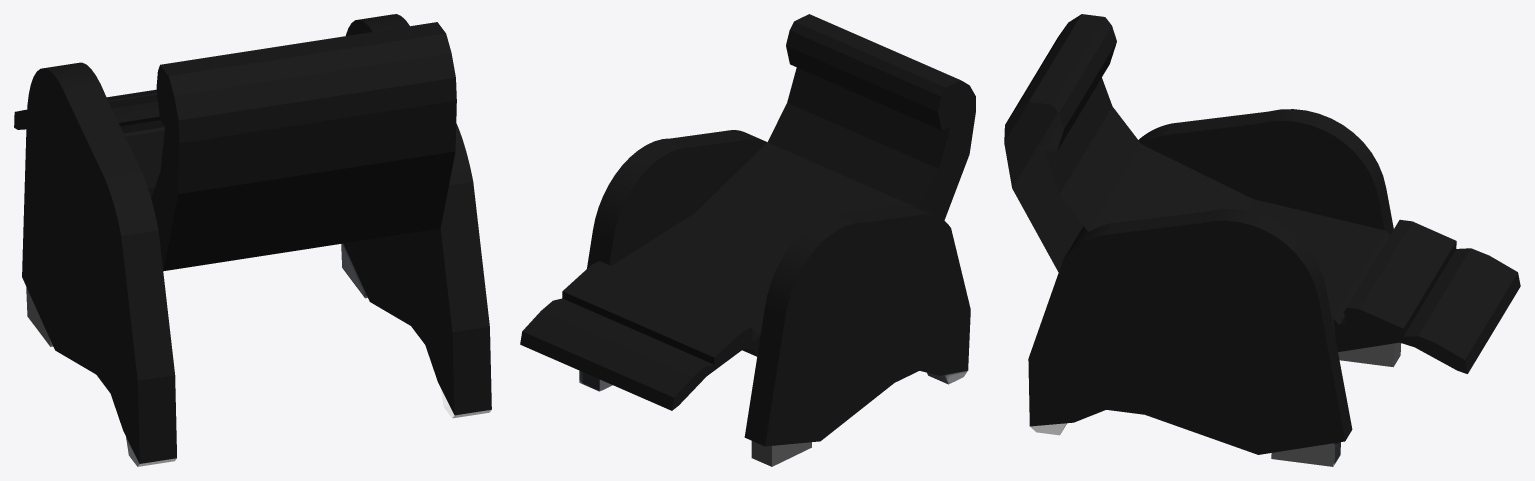
File: singlesofa.obj
3 renders of one model, left to right at view 1: azimuth 30°, elevation 25°; view 2: azimuth 150°, elevation 25°; view 3: azimuth 270°, elevation 25°, orthographic. The views are drawn at different scales.
Parts seen in each view (by area): view 1: Mesh1 Group1 ske1D1 Model; view 2: Mesh1 Group1 ske1D1 Model; view 3: Mesh1 Group1 ske1D1 Model.
Boxes of the visible parts, x1=… form: Mesh1 Group1 ske1D1 Model: x1=14, y1=14, x2=491, y2=466; Mesh1 Group1 ske1D1 Model: x1=520, y1=14, x2=975, y2=466; Mesh1 Group1 ske1D1 Model: x1=1004, y1=14, x2=1520, y2=466.
Bounding box in the file's own units: 40.85 × 40.64 × 58.65.
4 materials, 1 textured.
